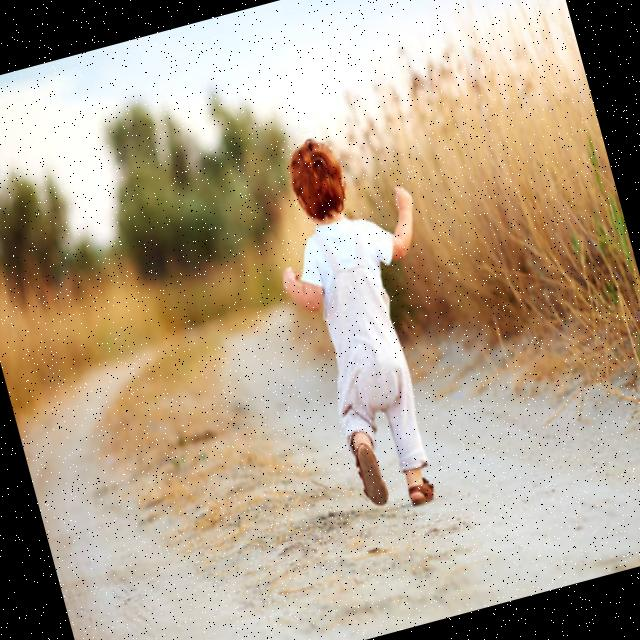Person: (250, 118, 490, 523)
